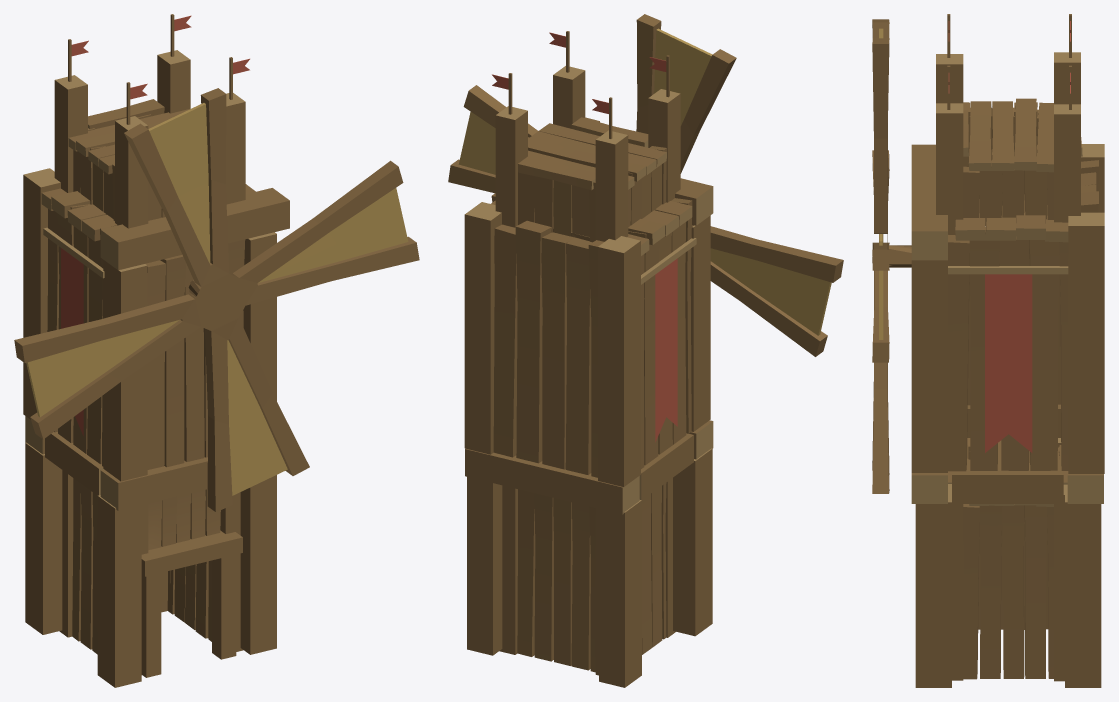
Rendered from Windmill-jpHoi9xDLG.glb.
3 renders of one model, left to right at view 1: azimuth 30°, elevation 25°; view 2: azimuth 150°, elevation 25°; view 3: azimuth 270°, elevation 25°, orthographic. The views are drawn at different scales.
Parts seen in each view (by area): view 1: Windmill_FirstAge; view 2: Windmill_FirstAge; view 3: Windmill_FirstAge.
Part boxes in pixels (x1,y1,x2,y2): Windmill_FirstAge: (14,14,419,687); Windmill_FirstAge: (448,14,843,687); Windmill_FirstAge: (872,14,1104,687).
Size of the model in its own units: 1.35 by 1.92 by 0.6604.
